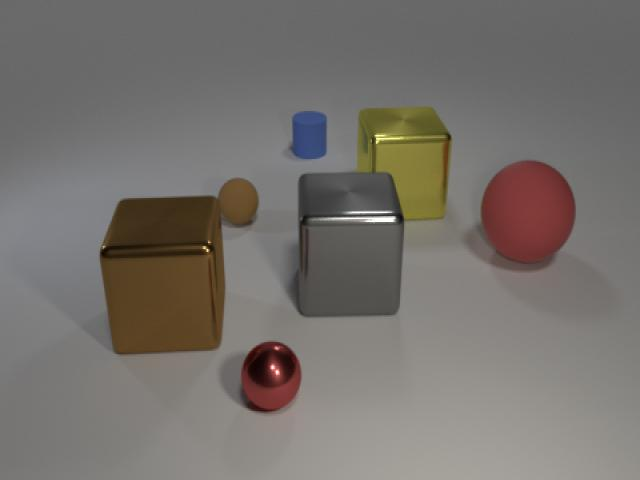cylinder: (286, 105, 332, 162)
round ball: (477, 152, 579, 272), (237, 338, 307, 414), (216, 175, 262, 229)
